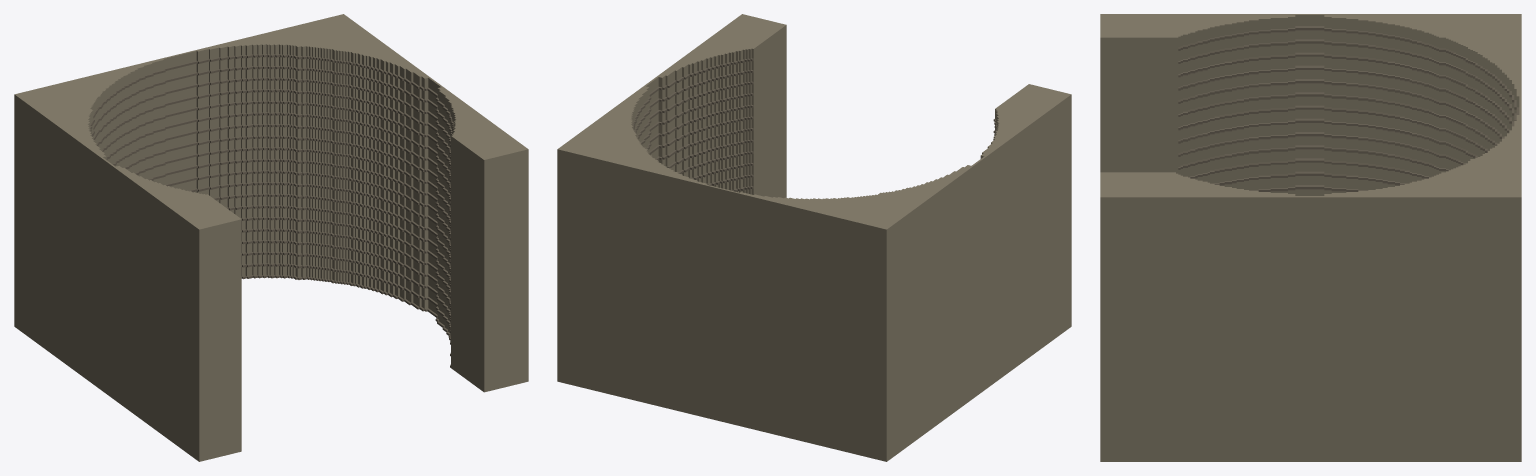
The model's file is StageFrame.obj.
3 renders of one model, left to right at view 1: azimuth 30°, elevation 25°; view 2: azimuth 150°, elevation 25°; view 3: azimuth 270°, elevation 25°, orthographic. The views are drawn at different scales.
Size of the model in its own units: 17.8 by 12 by 17.3.
1 material, 1 textured.
